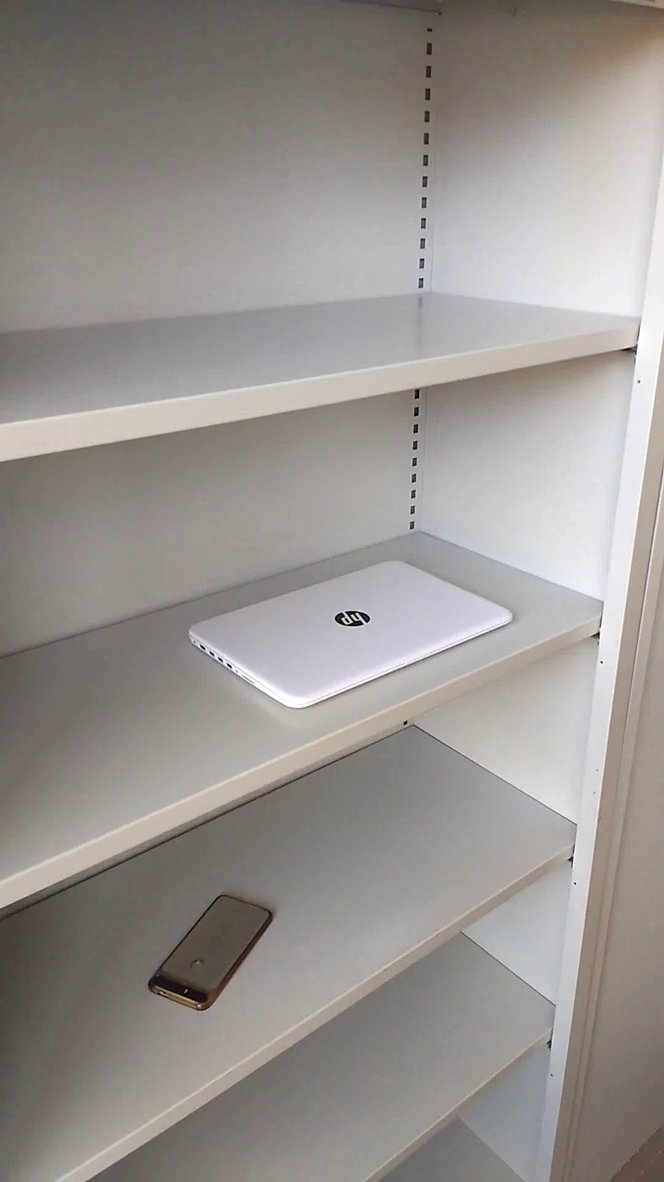laptop: (180, 547, 524, 725)
phone: (138, 885, 285, 1019)
